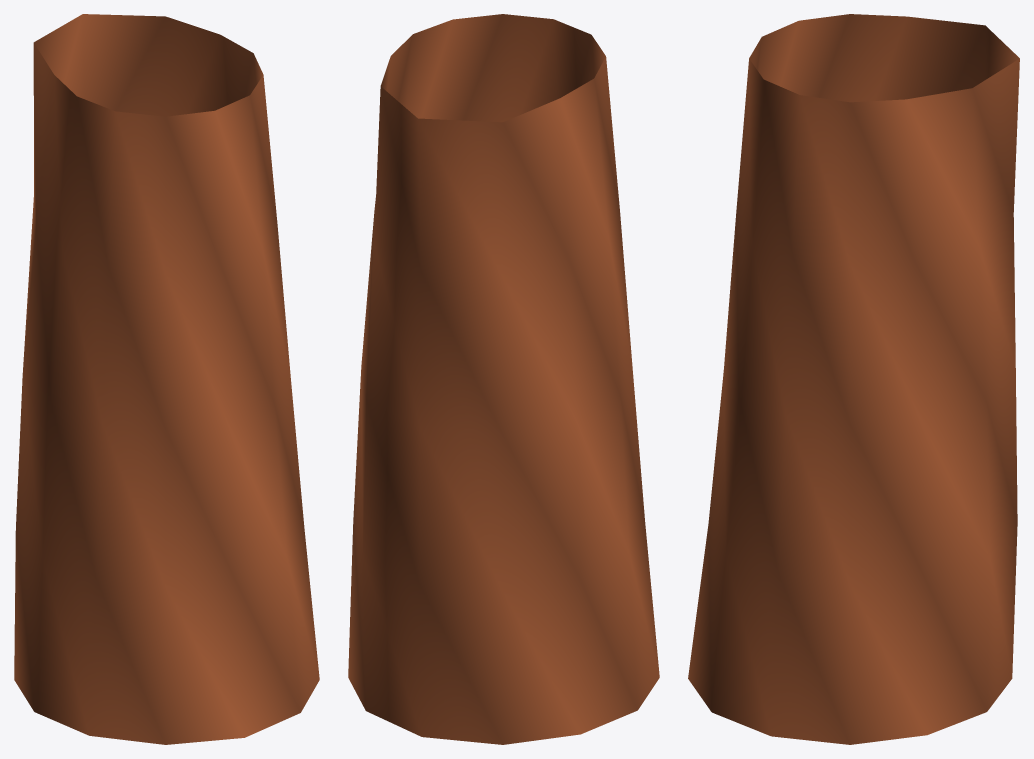
File: copper_armor_greave.R.glb
3 renders of one model, left to right at view 1: azimuth 30°, elevation 25°; view 2: azimuth 150°, elevation 25°; view 3: azimuth 270°, elevation 25°, orthographic. The views are drawn at different scales.
Visible parts, largest first — view 1: copper_armor_greave.R; view 2: copper_armor_greave.R; view 3: copper_armor_greave.R.
Boxes of the visible parts, left/top/right/bottom form: copper_armor_greave.R: left=14, top=14, right=319, bottom=744; copper_armor_greave.R: left=348, top=14, right=659, bottom=744; copper_armor_greave.R: left=688, top=14, right=1019, bottom=744.
Size of the model in its own units: 0.172 by 0.3767 by 0.1827.
